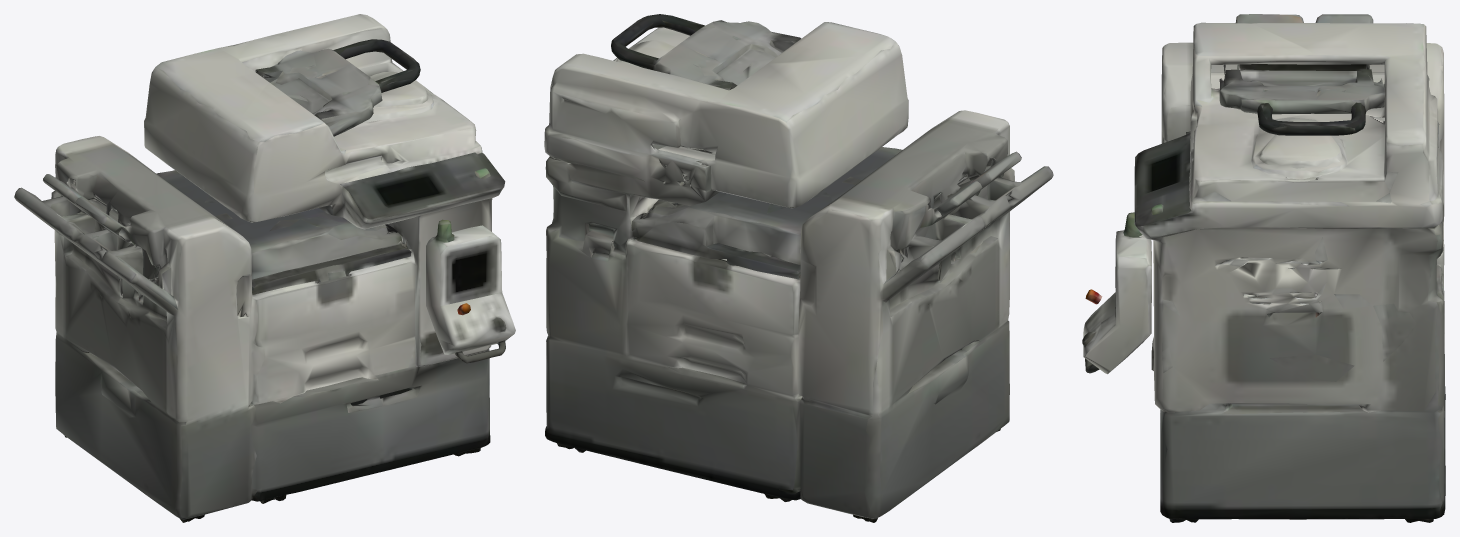
File: multifunction_printer.glb
3 views of the same model, side by side, from view 1: azimuth 30°, elevation 25°; view 2: azimuth 150°, elevation 25°; view 3: azimuth 270°, elevation 25° (orthographic). The views are drawn at different scales.
Visible parts, largest first — view 1: geometry_0; view 2: geometry_0; view 3: geometry_0.
Part boxes in pixels (x1,y1,x2,y2): geometry_0: (14, 14, 515, 522); geometry_0: (544, 14, 1053, 522); geometry_0: (1082, 14, 1445, 522).
Size of the model in its own units: 1 by 0.9554 by 0.7943.
1 material, 1 textured.
